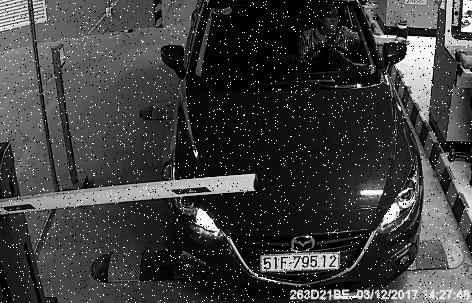License-plate: (260, 249, 351, 278)
